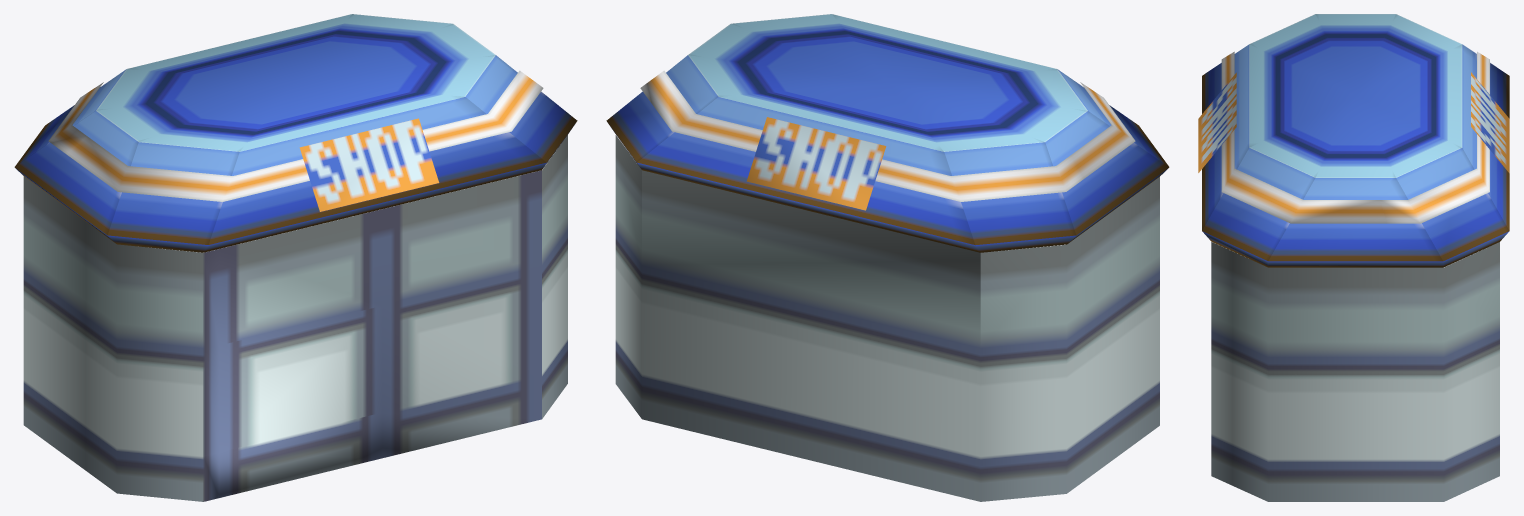
The model's file is mart.glb.
3 renders of one model, left to right at view 1: azimuth 30°, elevation 25°; view 2: azimuth 150°, elevation 25°; view 3: azimuth 270°, elevation 25°, orthographic. The views are drawn at different scales.
Visible parts, largest first — view 1: mesh; view 2: mesh; view 3: mesh.
Part boxes in pixels (bbox=[...]): mesh: bbox=[14, 14, 577, 501]; mesh: bbox=[606, 14, 1169, 501]; mesh: bbox=[1198, 14, 1509, 501].
Size of the model in its own units: 96.71 by 63.22 by 58.95.
Materials: 1 (1 with a texture image).
